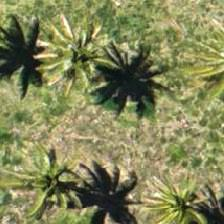Kelapa_Sawit: (27, 16, 117, 106), (5, 149, 96, 223), (121, 162, 212, 223)
